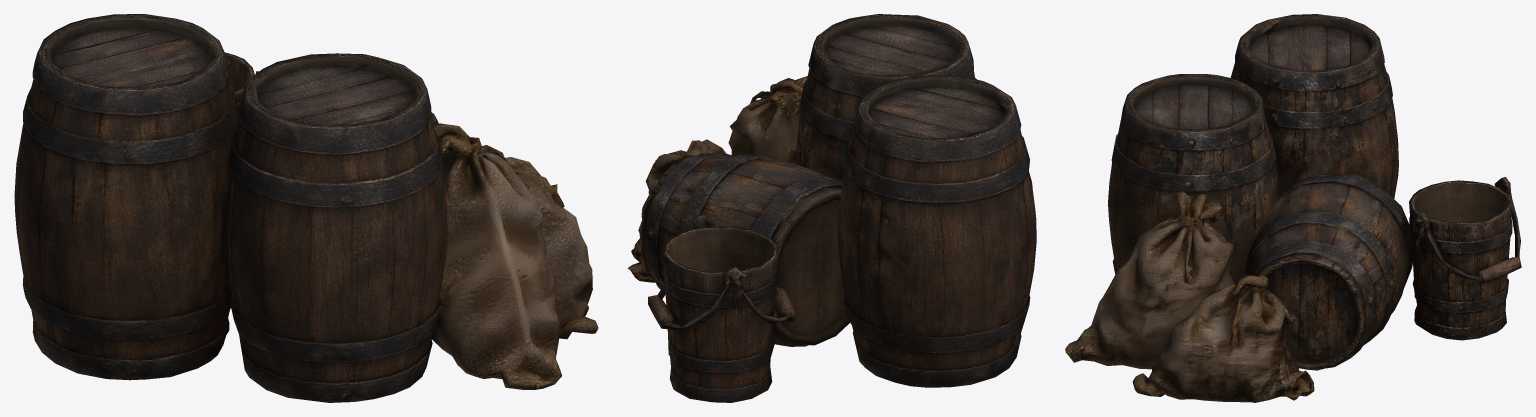
File: raw_barrels.glb
3 views of the same model, side by side, from view 1: azimuth 30°, elevation 25°; view 2: azimuth 150°, elevation 25°; view 3: azimuth 270°, elevation 25° (orthographic). The views are drawn at different scales.
Parts seen in each view (by area): view 1: tripo_node_37918f86-9b0f-4b55-8fe4-3077a805df55; view 2: tripo_node_37918f86-9b0f-4b55-8fe4-3077a805df55; view 3: tripo_node_37918f86-9b0f-4b55-8fe4-3077a805df55.
Part boxes in pixels (box(x1,y1,x2,y2)): tripo_node_37918f86-9b0f-4b55-8fe4-3077a805df55: box(14, 14, 598, 402); tripo_node_37918f86-9b0f-4b55-8fe4-3077a805df55: box(627, 14, 1036, 402); tripo_node_37918f86-9b0f-4b55-8fe4-3077a805df55: box(1065, 14, 1521, 402).
Size of the model in its own units: 0.9463 by 0.5348 by 1.
Materials: 1 (1 with a texture image).
